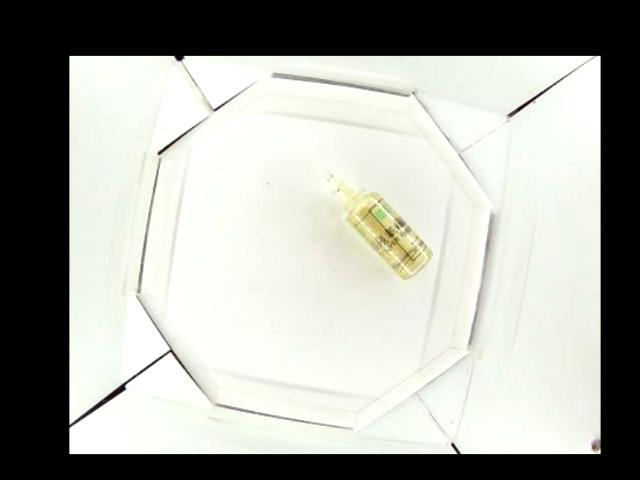Bottle: (322, 166, 436, 280)
